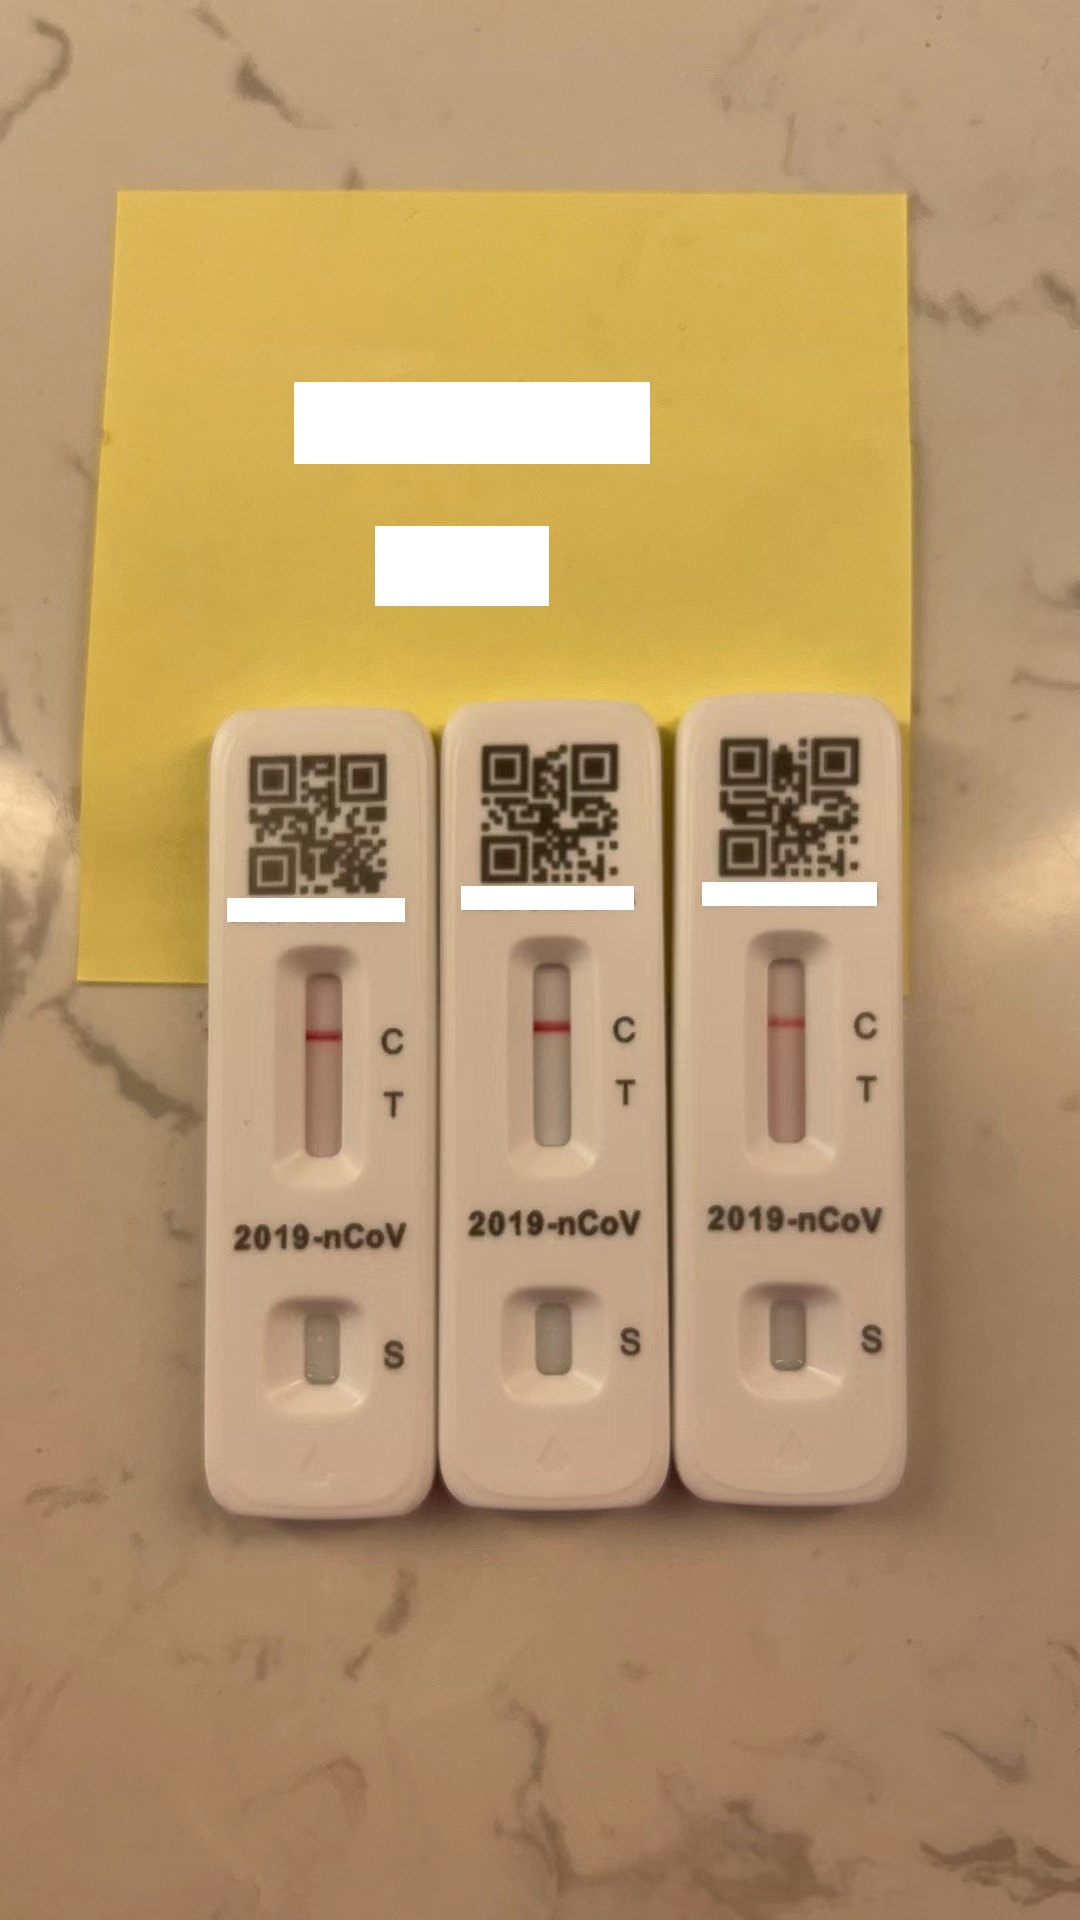negative: (506, 930, 597, 1176), (742, 930, 832, 1172), (274, 949, 364, 1176)
